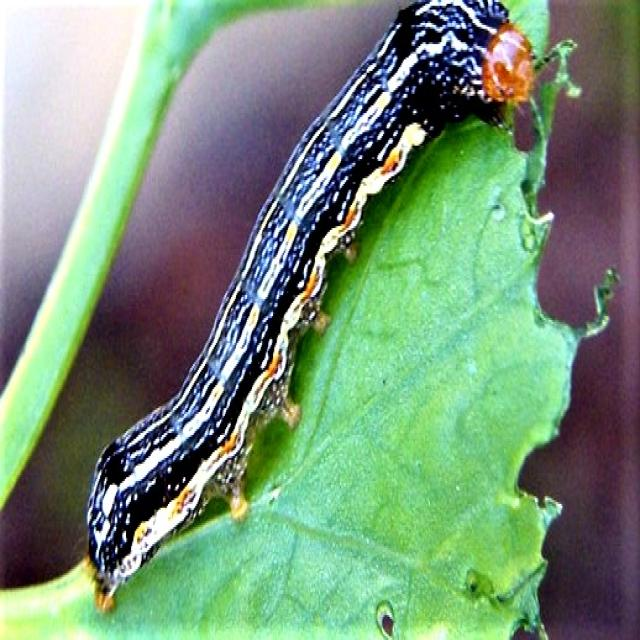armyworm: (83, 0, 577, 613)
